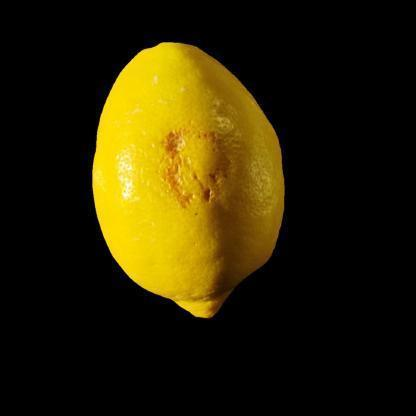lemon: (92, 41, 285, 318)
